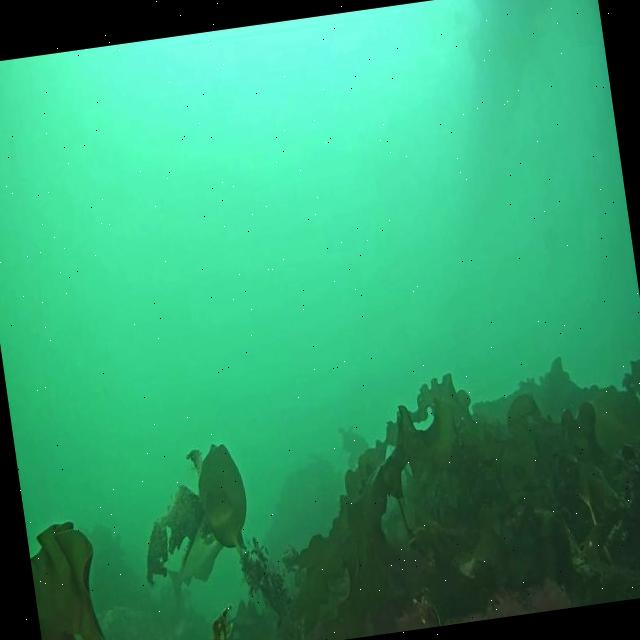fish: (162, 531, 226, 599)
